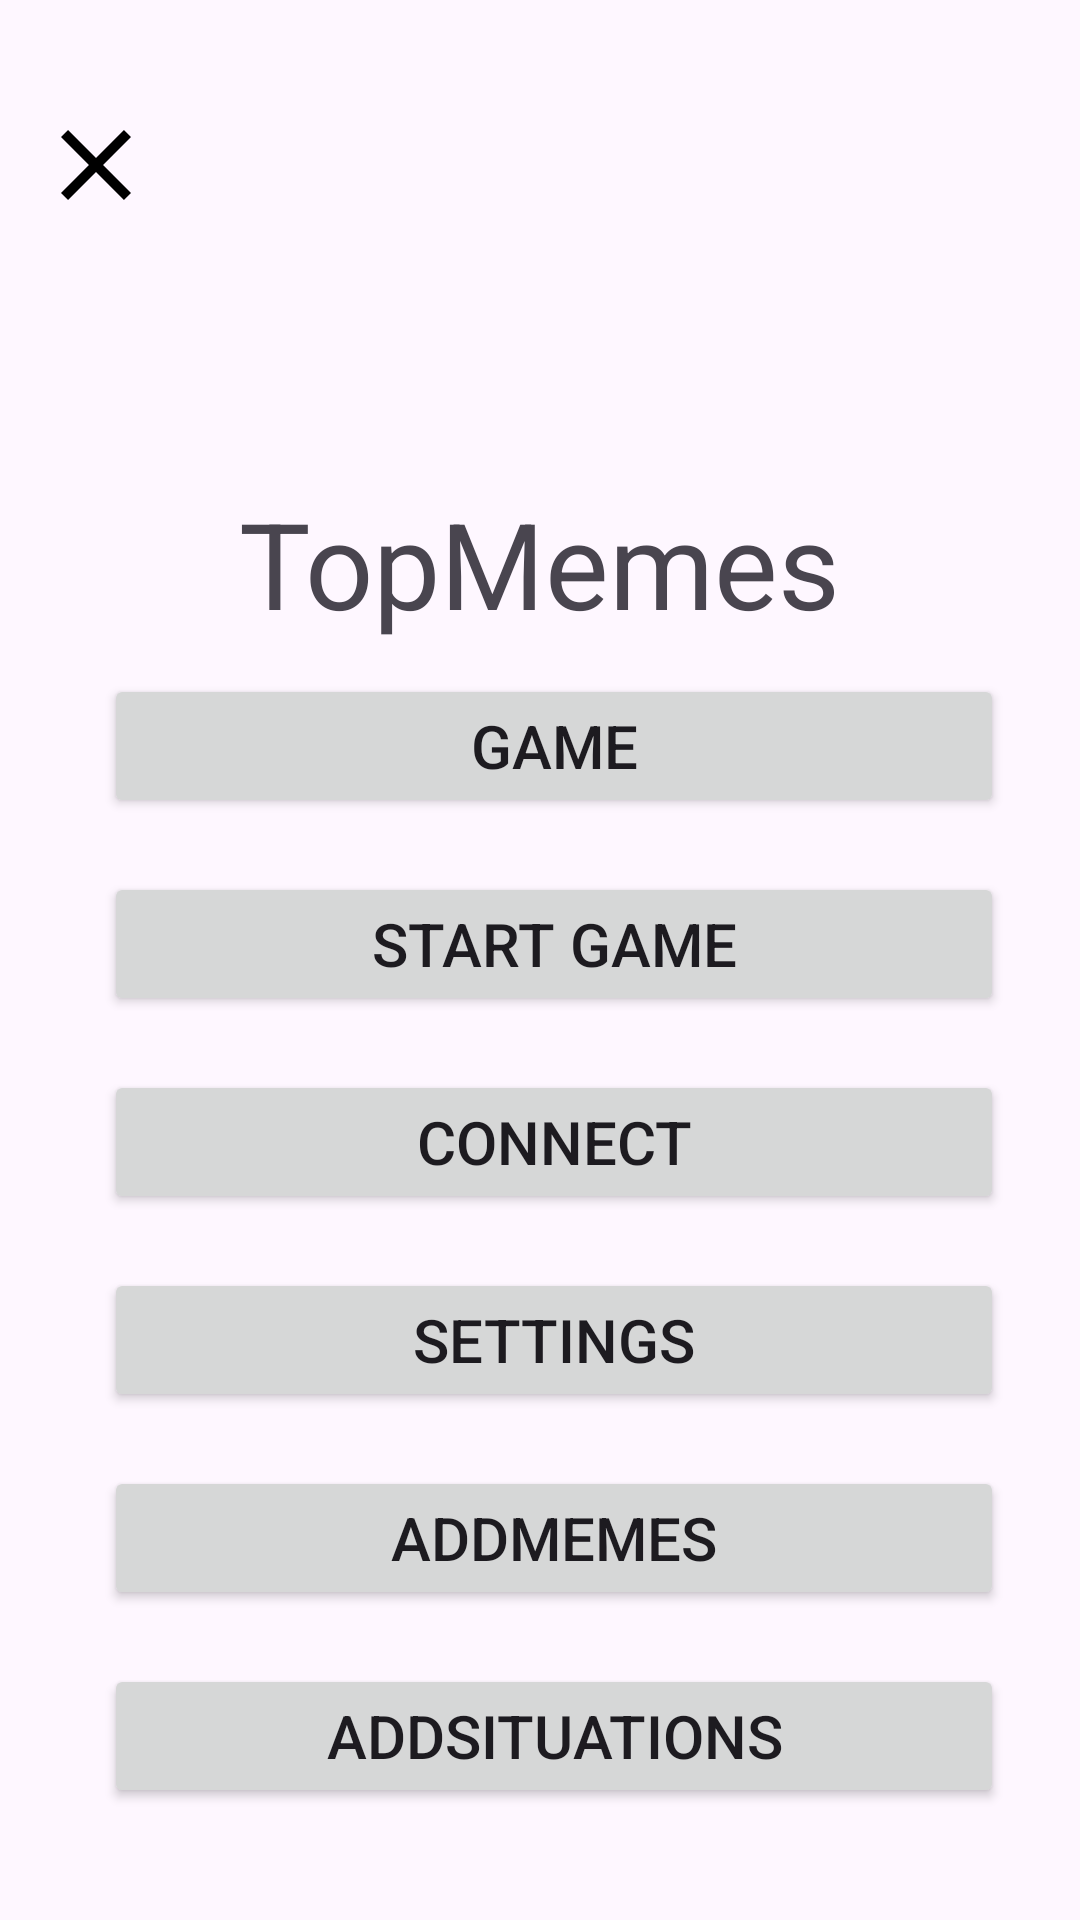

Icon bounding boxes for this 1080 × 1920 phone screenshot, format (x1, y1, x2, y2):
close: (61, 130, 131, 200)
